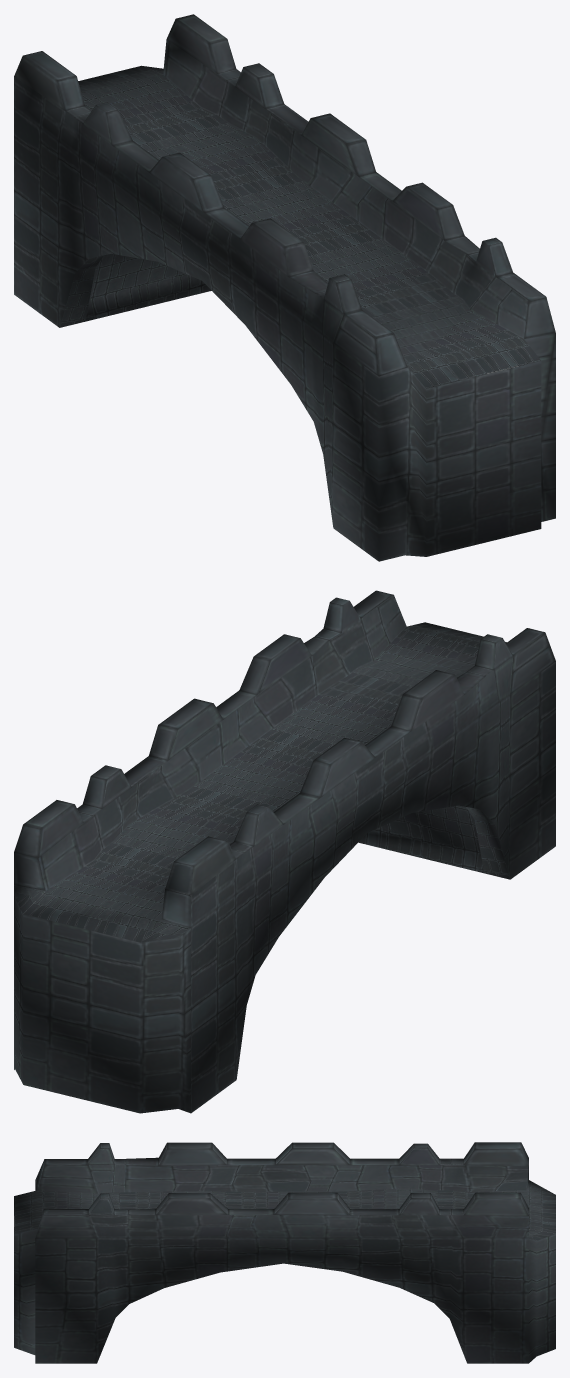
The model's file is ponte.fbx.
3 views of the same model, one above another, from view 1: azimuth 30°, elevation 25°; view 2: azimuth 150°, elevation 25°; view 3: azimuth 270°, elevation 25° (orthographic). The views are drawn at different scales.
Parts seen in each view (by area): view 1: Cube; view 2: Cube; view 3: Cube.
Boxes of the visible parts, x1,y1,x2,y2 form: Cube: [14, 14, 555, 561]; Cube: [14, 590, 555, 1113]; Cube: [14, 1142, 555, 1363].
Size of the model in its own units: 2 by 2.62 by 7.84.
